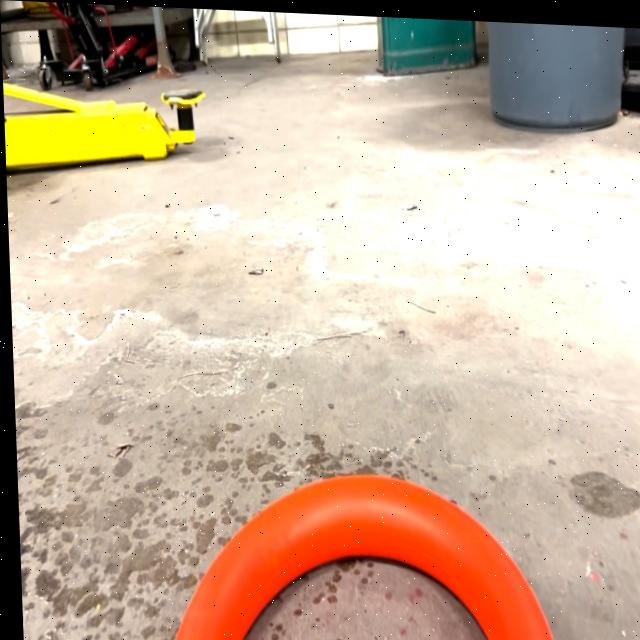note: (161, 462, 559, 640)
